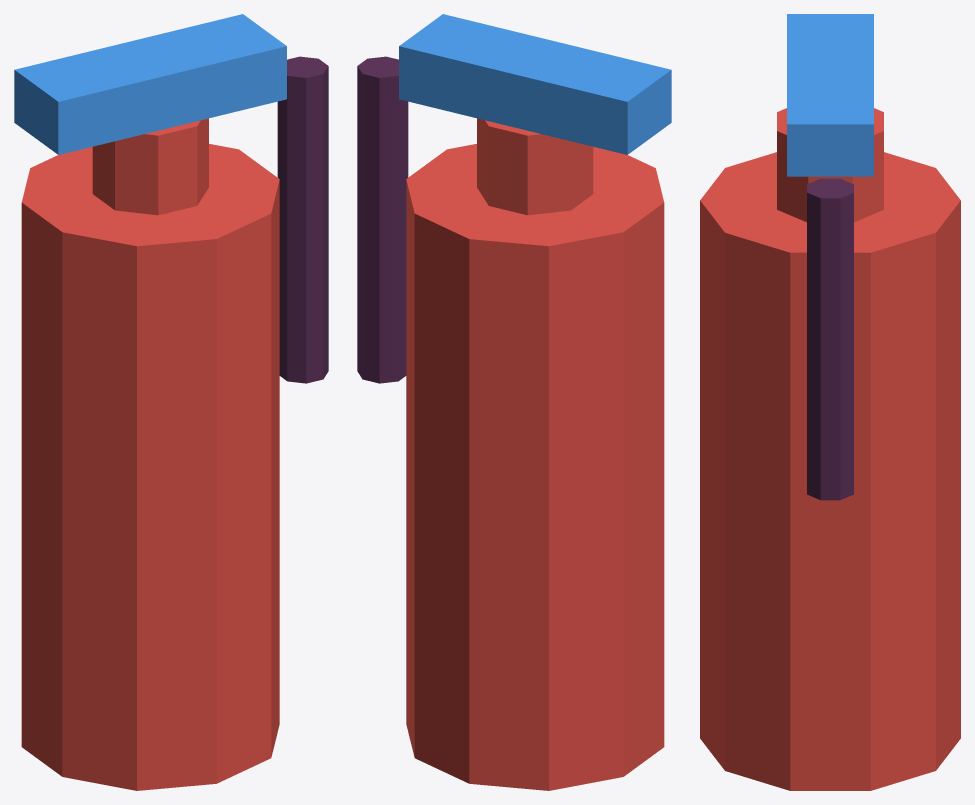
The model's file is fire-extinguisher.obj.
The picture shows the model from 3 angles, left to right: view 1: azimuth 30°, elevation 25°; view 2: azimuth 150°, elevation 25°; view 3: azimuth 270°, elevation 25°; orthographic projection.
Parts seen in each view (by area): view 1: extinguisher-body, handle, hose, extinguisher-neck; view 2: extinguisher-body, handle, hose, extinguisher-neck; view 3: extinguisher-body, hose, handle, extinguisher-neck.
Boxes of the visible parts, bbox=[...] form: extinguisher-body: bbox=[21, 144, 279, 790]; handle: bbox=[14, 14, 286, 154]; hose: bbox=[277, 56, 328, 383]; extinguisher-neck: bbox=[92, 118, 208, 215]; extinguisher-body: bbox=[406, 144, 664, 790]; handle: bbox=[399, 14, 671, 154]; hose: bbox=[357, 56, 408, 383]; extinguisher-neck: bbox=[477, 118, 593, 215]; extinguisher-body: bbox=[700, 152, 960, 790]; hose: bbox=[807, 178, 853, 500]; handle: bbox=[787, 14, 873, 176]; extinguisher-neck: bbox=[777, 108, 883, 222].
Bounding box in the file's own units: 0.4523 × 1.02 × 0.36.
